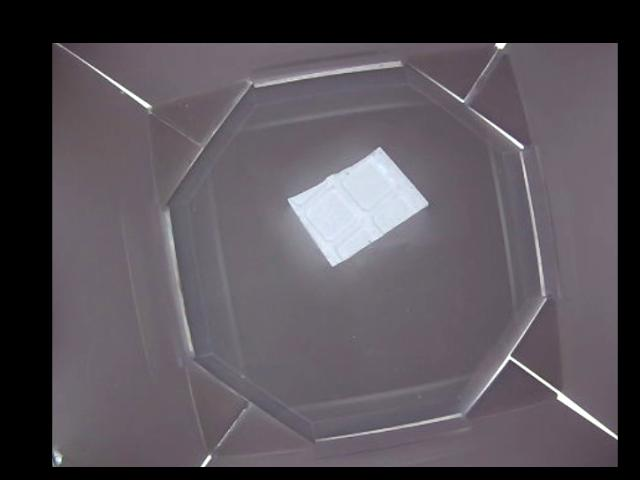China: (285, 148, 428, 263)
